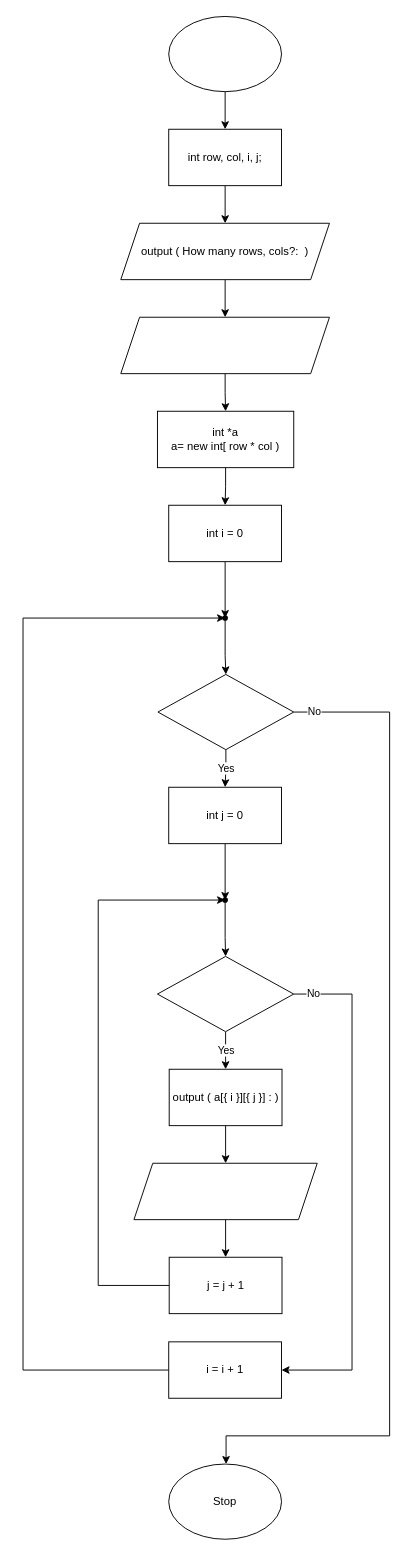
The diagram is 414 pixels wide and 1556 high, and some of its shapes have lost their labels. The shapes that lost their labels are listed below. From the top down, each one's box as (x1, y1, x2, y2) in pixels, then its label:
(168, 16, 282, 92): start
(120, 316, 329, 374): input ( &row, &col )
(157, 674, 294, 750): i < row ?
(157, 956, 294, 1032): j < col ?
(133, 1162, 317, 1220): input ( &a[i * col + j)
